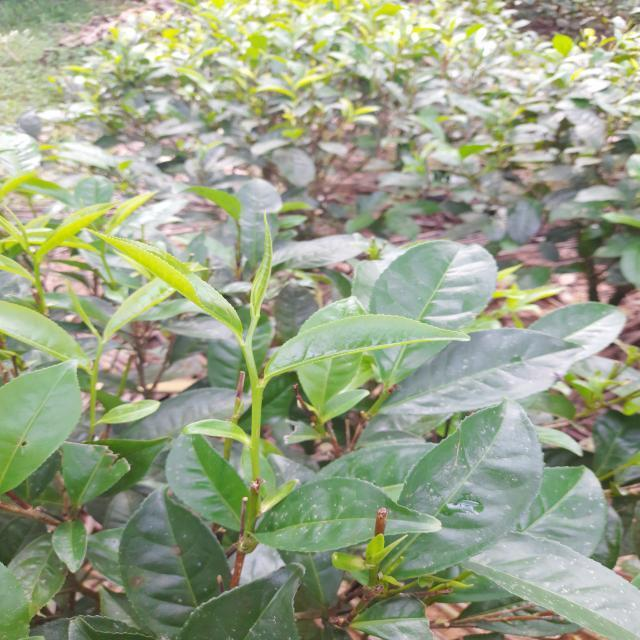Stem: (243, 343, 252, 353), (91, 372, 96, 383), (34, 258, 39, 265)
